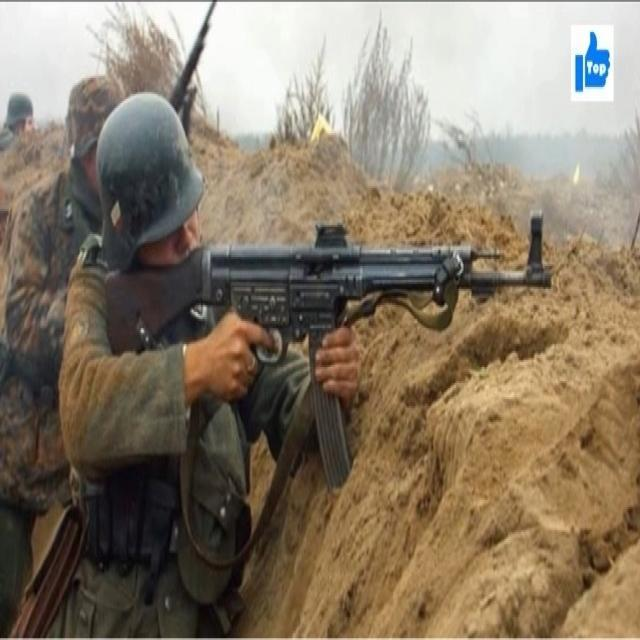ak: (113, 209, 562, 488)
